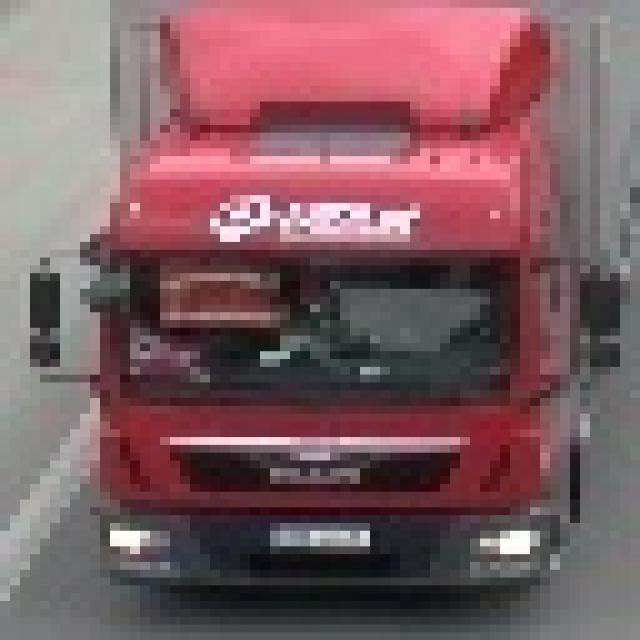truck: (30, 0, 640, 585)
